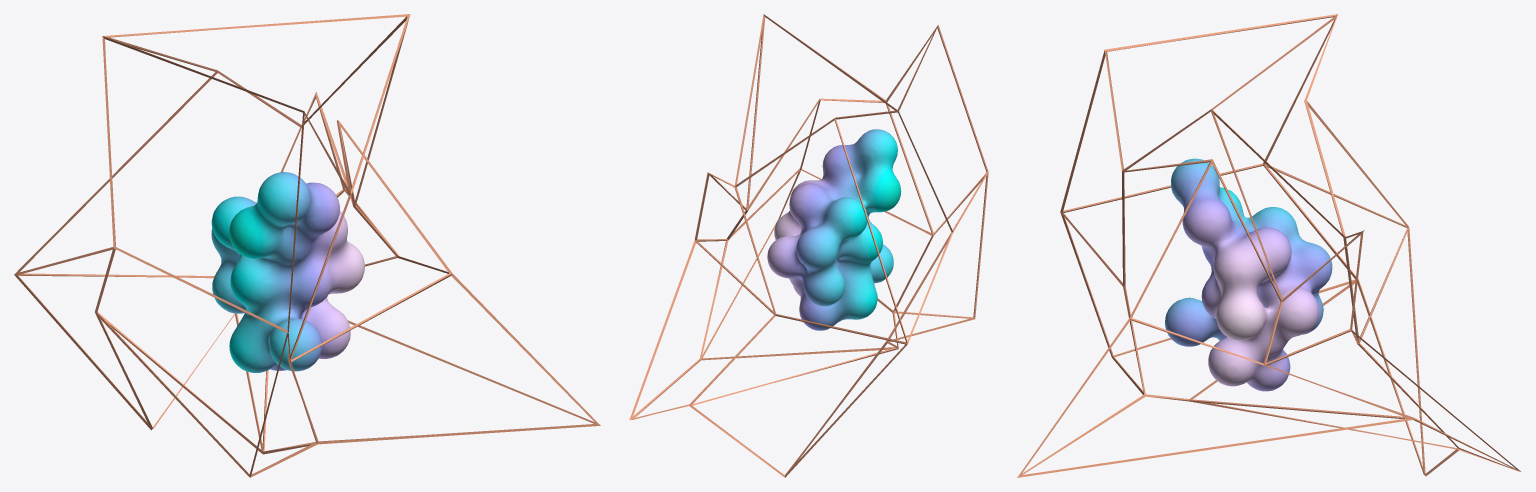
Rendered from homunculus.glb.
The picture shows the model from 3 angles, left to right: view 1: azimuth 30°, elevation 25°; view 2: azimuth 150°, elevation 25°; view 3: azimuth 270°, elevation 25°; orthographic projection. The views are drawn at different scales.
Visible parts, largest first — view 1: Mball.020, Cube.002; view 2: Mball.020, Cube.002; view 3: Mball.020, Cube.002.
Part boxes in pixels (left/top/right/bottom): Mball.020: left=211, top=172, right=364, bottom=372; Cube.002: left=14, top=14, right=600, bottom=477; Mball.020: left=767, top=129, right=901, bottom=330; Cube.002: left=629, top=14, right=988, bottom=477; Mball.020: left=1165, top=158, right=1332, bottom=391; Cube.002: left=1017, top=14, right=1520, bottom=477.
Size of the model in its own units: 2.39 by 2.84 by 3.01.
Materials: 2 (1 with a texture image).
